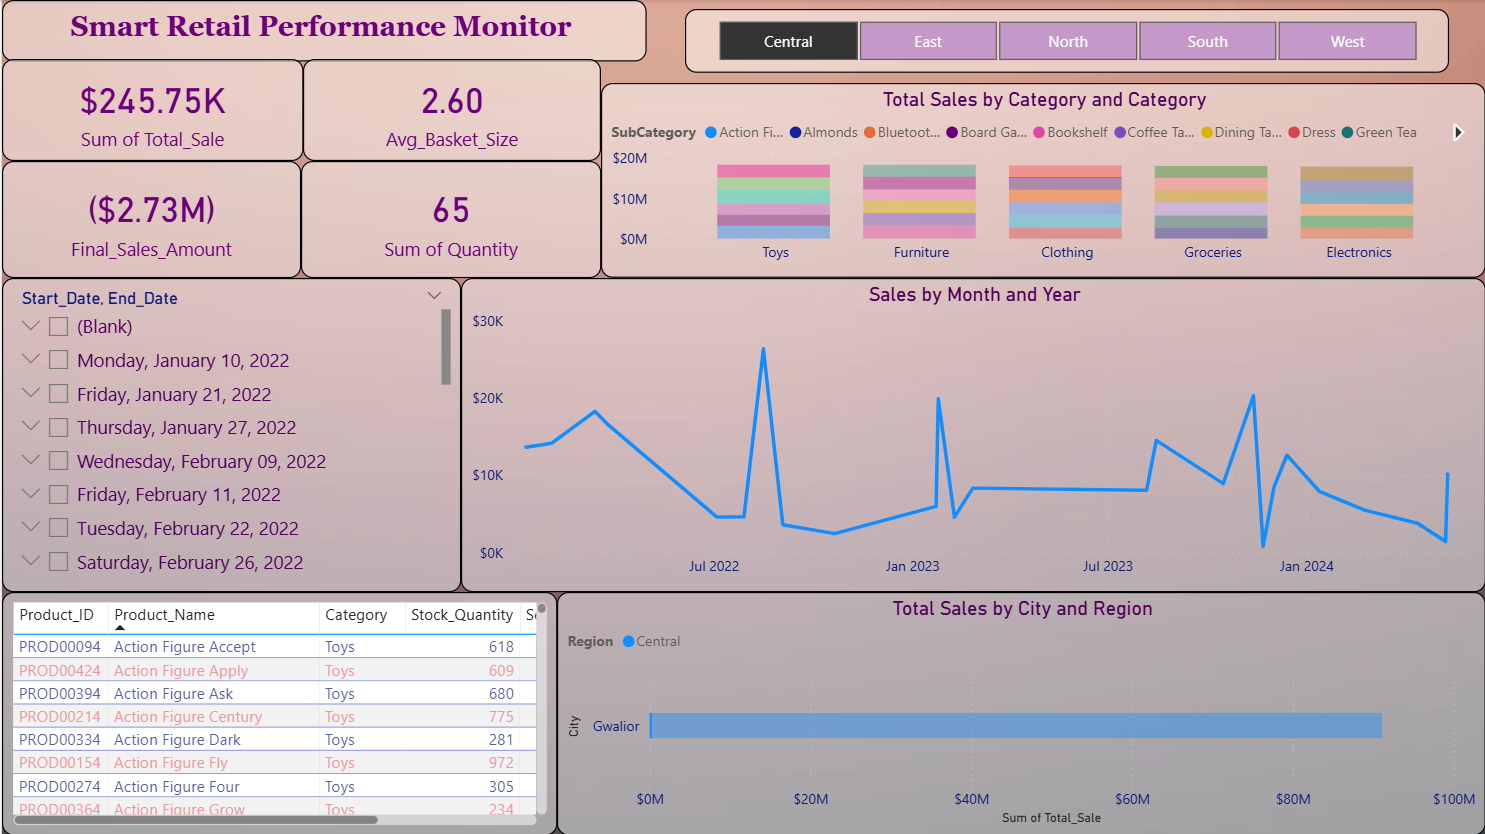

This screenshot's page, from the dashboard's own definition file:
{"tool":"powerbi","page":{"name":"Page 1","canvas":[1280,720],"ordinal":0},"visuals":[{"type":"textbox","box":[0,0,556.3,53.5],"z":0},{"type":"card","fields":{"Values":["Sum(sales.Total_Sale)"]},"box":[0,50.9,259.6,88],"z":1000},{"type":"card","fields":{"Values":["campaigns.Final_Sales_Amount"]},"box":[0,138.9,257.9,100.9],"z":2000},{"type":"card","fields":{"Values":["Sum(sales.Quantity)"]},"box":[257.9,138.9,258.8,100.9],"z":3000},{"type":"card","fields":{"Values":["campaigns.Avg_Basket_Size"]},"box":[259.6,50.9,257,88],"z":4000},{"type":"lineChart","title":"Sales by Month and Year","fields":{"Y":["Sum(sales.Total_Sale)"],"Category":["sales.Date.Variation.Date Hierarchy.Year","sales.Date.Variation.Date Hierarchy.Quarter","sales.Date.Variation.Date Hierarchy.Month","sales.Date.Variation.Date Hierarchy.Day"]},"box":[395.9,239.8,884.1,270.8],"z":5000},{"type":"barChart","title":" Total Sales by City and Region","fields":{"Y":["Sum(sales.Total_Sale)"],"Category":["stores.City"],"Series":["stores.Region"]},"box":[478.7,510.6,801.3,209.6],"z":6000},{"type":"columnChart","title":"Total Sales by Category and Category","fields":{"Category":["products.Category"],"Y":["Sum(sales.Total_Sale)"],"Series":["products.Subcategory"]},"box":[516.7,71.6,763.3,168.2],"z":7000},{"type":"tableEx","fields":{"Values":["products.Product_ID","products.Product_Name","products.Category","products.Stock_Quantity","products.Selling_Price","products.Cost_Price","stores.Region"]},"box":[0,510.6,478.7,209.6],"z":8000},{"type":"slicer","fields":{"Values":["campaigns.Start_Date","campaigns.End_Date"]},"box":[0,239.8,395.9,270.8],"z":9000},{"type":"slicer","fields":{"Values":["stores.Region"]},"box":[589.1,7.8,659,55.2],"z":9001}]}

Visuals, with their boxes in screenshot pixels (x1, y1, x2, y2), scaled from the page's 1280x720 canvas onto the 1485x834 screenshot:
textbox: left=0, top=0, right=645, bottom=62
card - Sum(sales.Total_Sale): left=0, top=59, right=301, bottom=161
card - campaigns.Final_Sales_Amount: left=0, top=161, right=299, bottom=278
card - Sum(sales.Quantity): left=299, top=161, right=599, bottom=278
card - campaigns.Avg_Basket_Size: left=301, top=59, right=599, bottom=161
"Sales by Month and Year" lineChart: left=459, top=278, right=1484, bottom=591
" Total Sales by City and Region" barChart: left=555, top=591, right=1484, bottom=833
"Total Sales by Category and Category" columnChart: left=599, top=83, right=1484, bottom=278
tableEx - products.Product_ID x products.Product_Name: left=0, top=591, right=555, bottom=833
slicer - campaigns.Start_Date x campaigns.End_Date: left=0, top=278, right=459, bottom=591
slicer - stores.Region: left=683, top=9, right=1448, bottom=73
